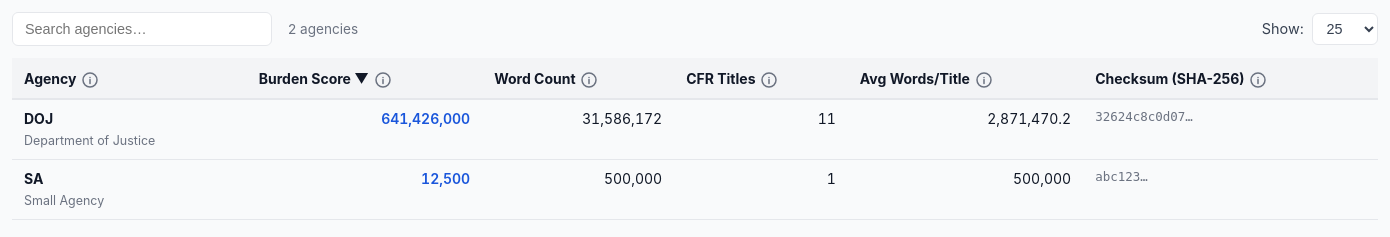
AgencyTable › allows sorting by clicking headers
Click the column heading "Agency": coordinates (129, 79) left=12, top=58, right=247, bottom=99
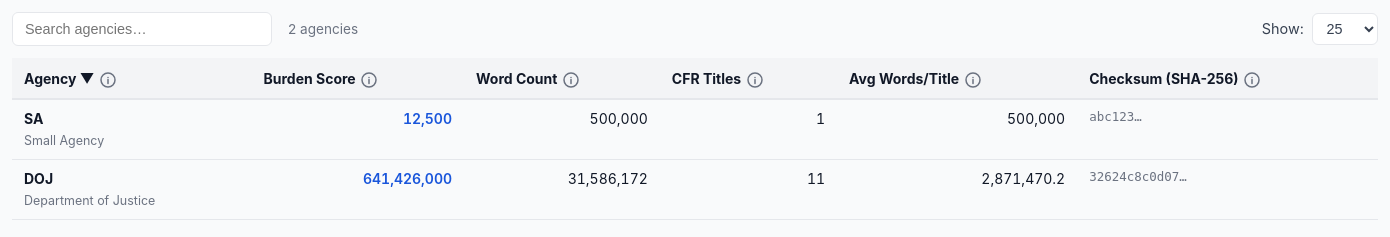
Check: the column heading "Agency ▼" is shown, box left=12, top=58, right=252, bottom=99
